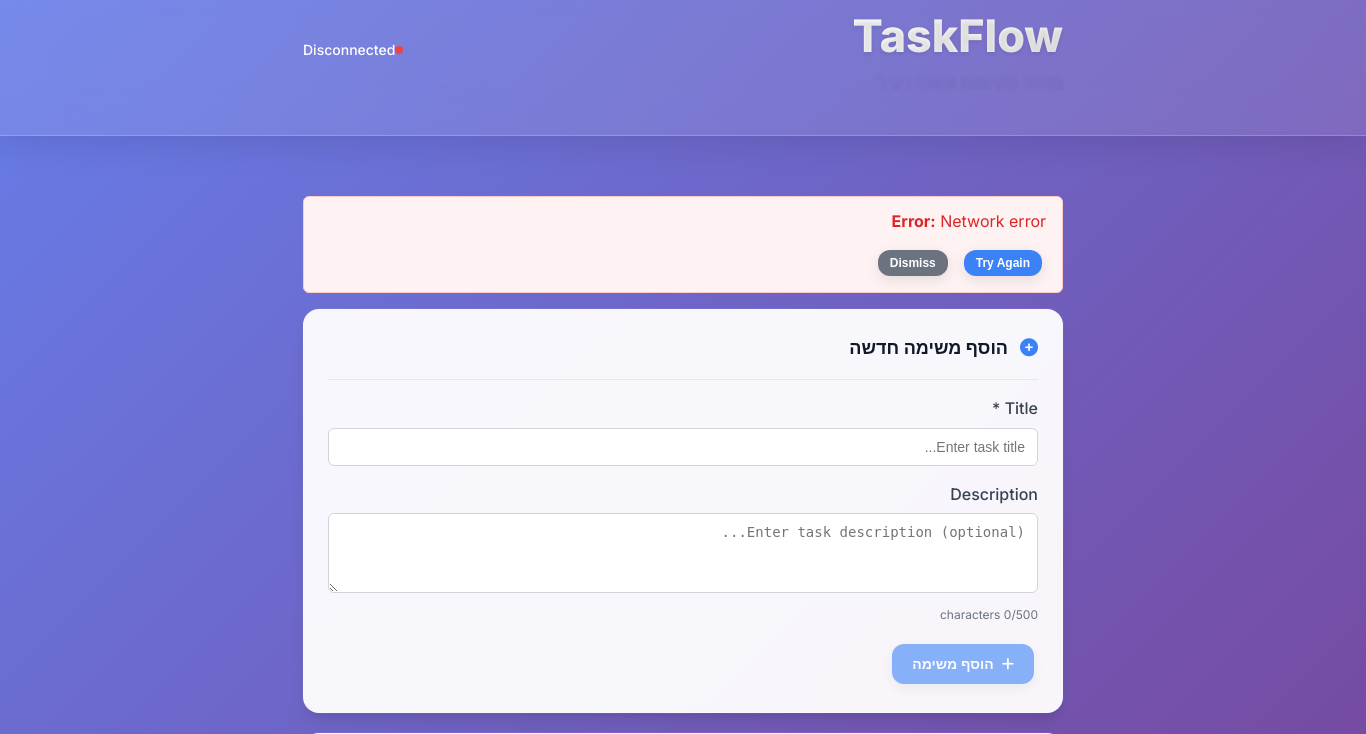
Scenario: App Component › retries loading tasks when retry button is clicked
The width and height of the screenshot is (1366, 734).
Expected: the text "Error:" is shown, top-left (892, 211), bottom-right (936, 231)
Click the button "Try Again". click: (1003, 264)
box: top-left (964, 250), bottom-right (1042, 276)
(page scrolled)
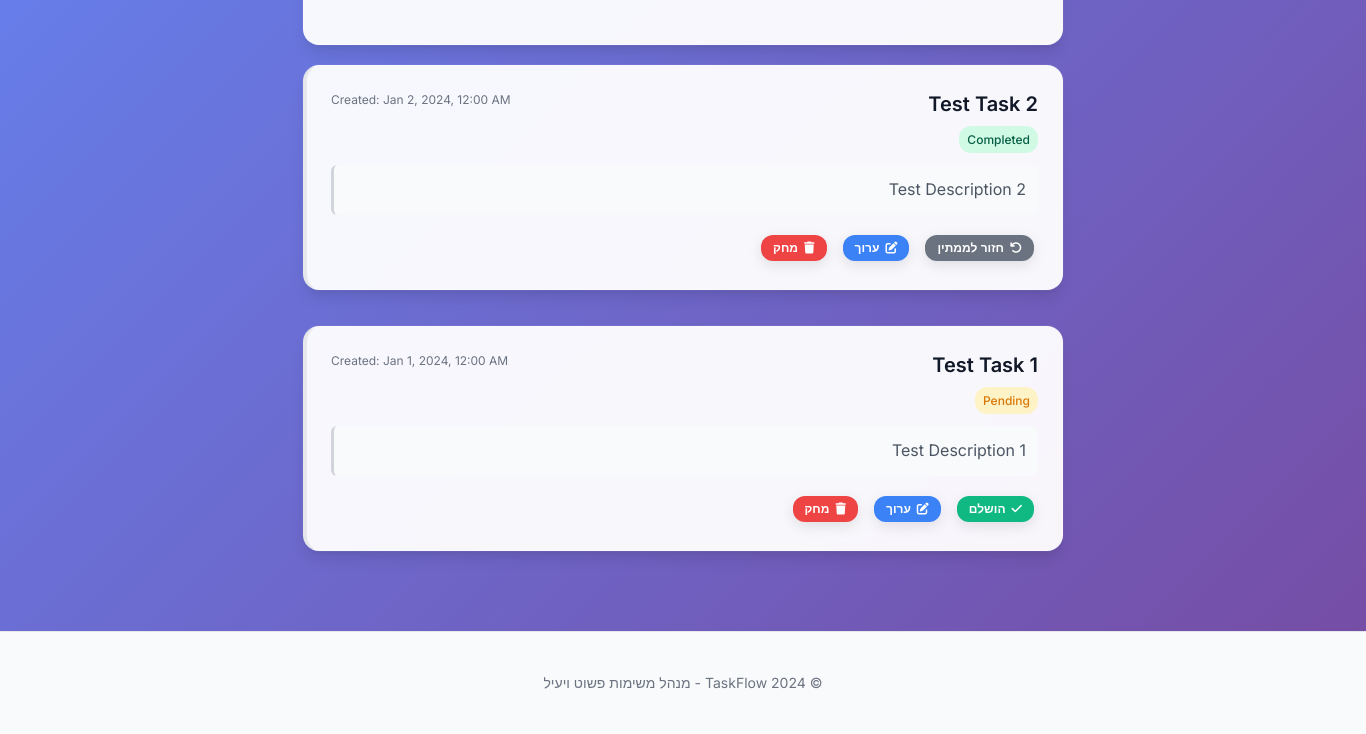
Expected: the heading "Test Task 1" is shown, top-left (932, 353), bottom-right (1038, 377)
